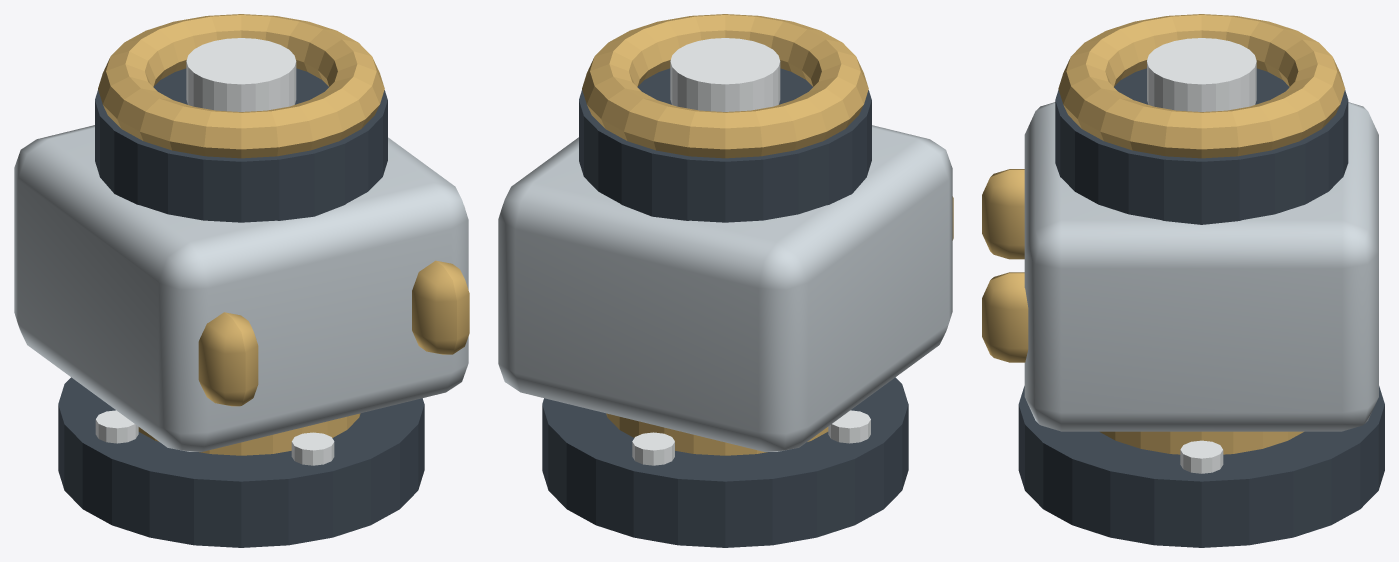
The model's file is reaction_wheel.glb.
The picture shows the model from 3 angles, left to right: view 1: azimuth 30°, elevation 25°; view 2: azimuth 150°, elevation 25°; view 3: azimuth 270°, elevation 25°; orthographic projection.
Parts seen in each view (by area): view 1: Wheel_Housing, Mount_Flange, Wheel_Rim, Wheel_Cover, Wheel_Hub, Connector, Connector_001, Mount_Collar, Mount_Bolt_003, Mount_Bolt_002; view 2: Wheel_Housing, Mount_Flange, Wheel_Rim, Wheel_Cover, Wheel_Hub, Mount_Collar, Mount_Bolt_001, Mount_Bolt_002; view 3: Wheel_Housing, Mount_Flange, Wheel_Rim, Wheel_Cover, Wheel_Hub, Connector_001, Connector, Mount_Collar, Mount_Bolt.
Part boxes in pixels (x1=…): Wheel_Housing: x1=14, y1=125, x2=468, y2=451; Mount_Flange: x1=58, y1=377, x2=424, y2=547; Wheel_Rim: x1=98, y1=14, x2=384, y2=158; Wheel_Cover: x1=95, y1=68, x2=387, y2=222; Wheel_Hub: x1=186, y1=38, x2=296, y2=111; Connector: x1=198, y1=312, x2=258, y2=406; Connector_001: x1=412, y1=260, x2=469, y2=354; Mount_Collar: x1=138, y1=413, x2=360, y2=455; Mount_Bolt_003: x1=291, y1=432, x2=334, y2=465; Mount_Bolt_002: x1=95, y1=410, x2=138, y2=443; Wheel_Housing: x1=498, y1=125, x2=952, y2=451; Mount_Flange: x1=542, y1=377, x2=908, y2=547; Wheel_Rim: x1=582, y1=14, x2=868, y2=158; Wheel_Cover: x1=579, y1=68, x2=871, y2=222; Wheel_Hub: x1=670, y1=38, x2=780, y2=111; Mount_Collar: x1=606, y1=413, x2=828, y2=455; Mount_Bolt_001: x1=632, y1=432, x2=674, y2=465; Mount_Bolt_002: x1=828, y1=410, x2=870, y2=443; Wheel_Housing: x1=1024, y1=102, x2=1378, y2=431; Mount_Flange: x1=1018, y1=386, x2=1384, y2=547; Wheel_Rim: x1=1058, y1=14, x2=1345, y2=158; Wheel_Cover: x1=1055, y1=68, x2=1348, y2=224; Wheel_Hub: x1=1147, y1=38, x2=1256, y2=111; Connector_001: x1=982, y1=272, x2=1028, y2=362; Connector: x1=982, y1=169, x2=1024, y2=259; Mount_Collar: x1=1099, y1=431, x2=1303, y2=454; Mount_Bolt: x1=1180, y1=440, x2=1223, y2=473.
Size of the model in its own units: 0.6 by 0.74 by 0.66.
